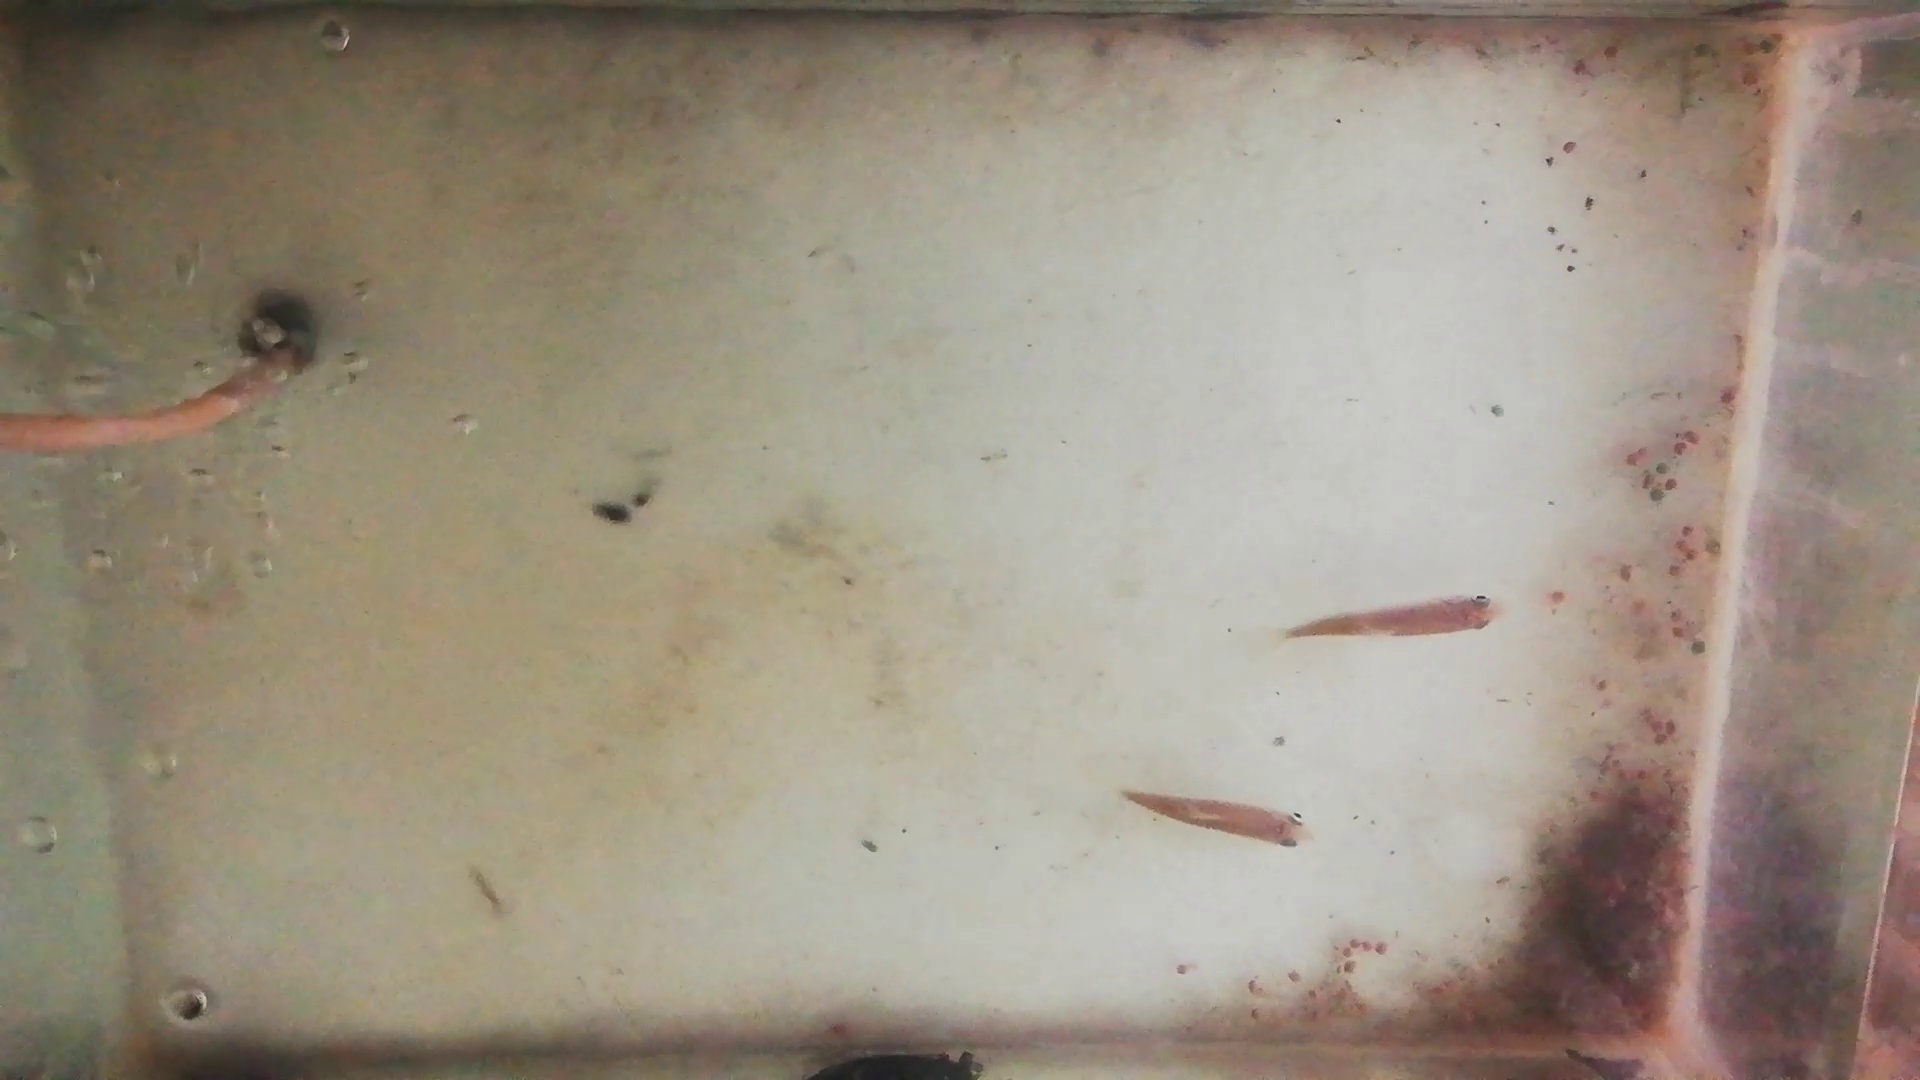fish: (1122, 789, 1309, 848), (1288, 593, 1502, 641)
